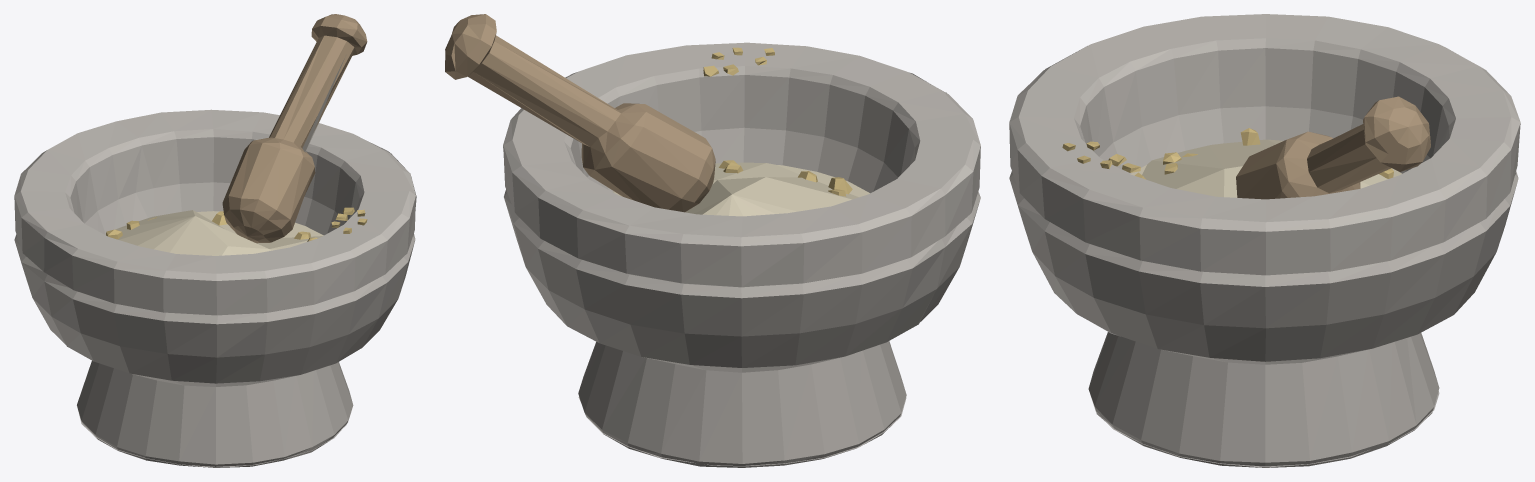
Rendered from stone_mortar.glb.
3 renders of one model, left to right at view 1: azimuth 30°, elevation 25°; view 2: azimuth 150°, elevation 25°; view 3: azimuth 270°, elevation 25°, orthographic. The views are drawn at different scales.
Parts seen in each view (by area): view 1: stone_mortar; view 2: stone_mortar; view 3: stone_mortar.
Boxes of the visible parts, <box> form: stone_mortar: <box>14,14,416,467</box>; stone_mortar: <box>445,14,980,467</box>; stone_mortar: <box>1009,14,1520,467</box>.
Bounding box in the file's own units: 1 × 0.8301 × 0.959.
